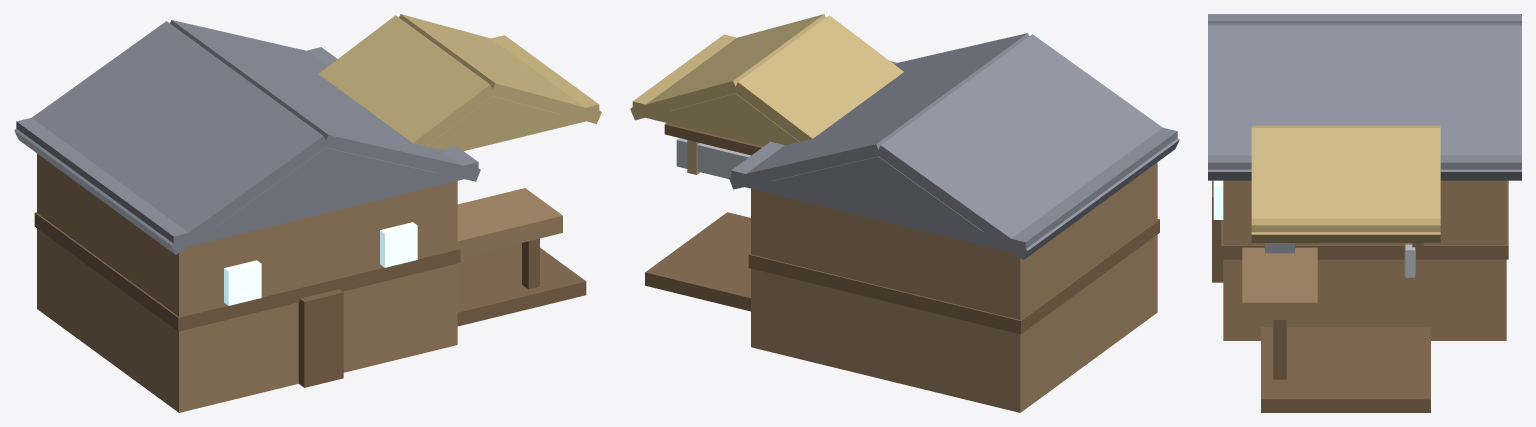
Rendered from toolsmith.glb.
3 views of the same model, side by side, from view 1: azimuth 30°, elevation 25°; view 2: azimuth 150°, elevation 25°; view 3: azimuth 270°, elevation 25° (orthographic). The views are drawn at different scales.
Parts seen in each view (by area): view 1: ToolsmithWall; view 2: ToolsmithWall; view 3: ToolsmithWall.
Part boxes in pixels (x1,y1,x2,y2): ToolsmithWall: [14, 14, 601, 412]; ToolsmithWall: [630, 14, 1179, 412]; ToolsmithWall: [1208, 14, 1521, 412].
Size of the model in its own units: 2.76 by 1.45 by 1.66.
